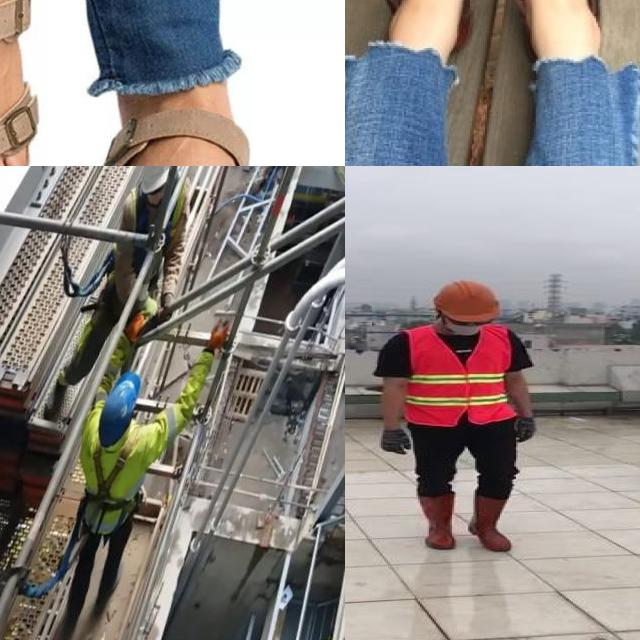Harness: (85, 443, 137, 534)
Sandals: (75, 50, 270, 166), (497, 0, 600, 73)
boots: (467, 494, 512, 551), (418, 493, 458, 550)
face_mask: (442, 312, 496, 338)
hand_glove: (376, 428, 411, 455), (512, 412, 536, 443)
head_helmet: (431, 276, 502, 324)
person: (363, 274, 552, 556)
vest: (404, 325, 516, 423)
